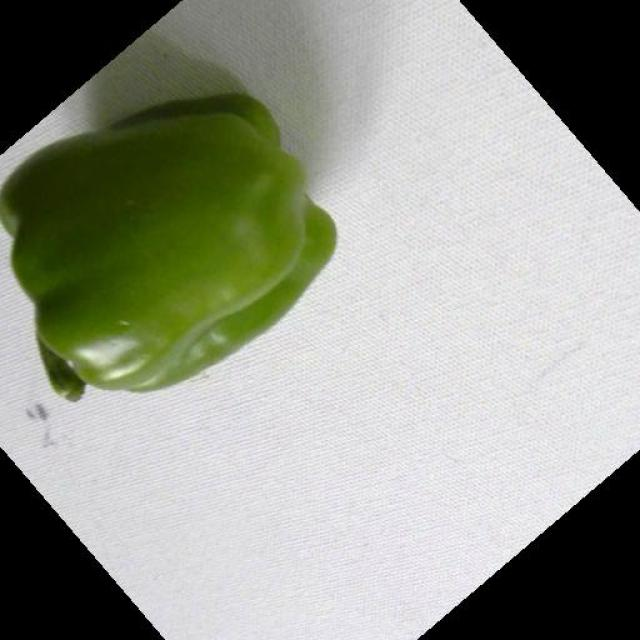Fresh_Capsicum: (16, 110, 320, 375)
